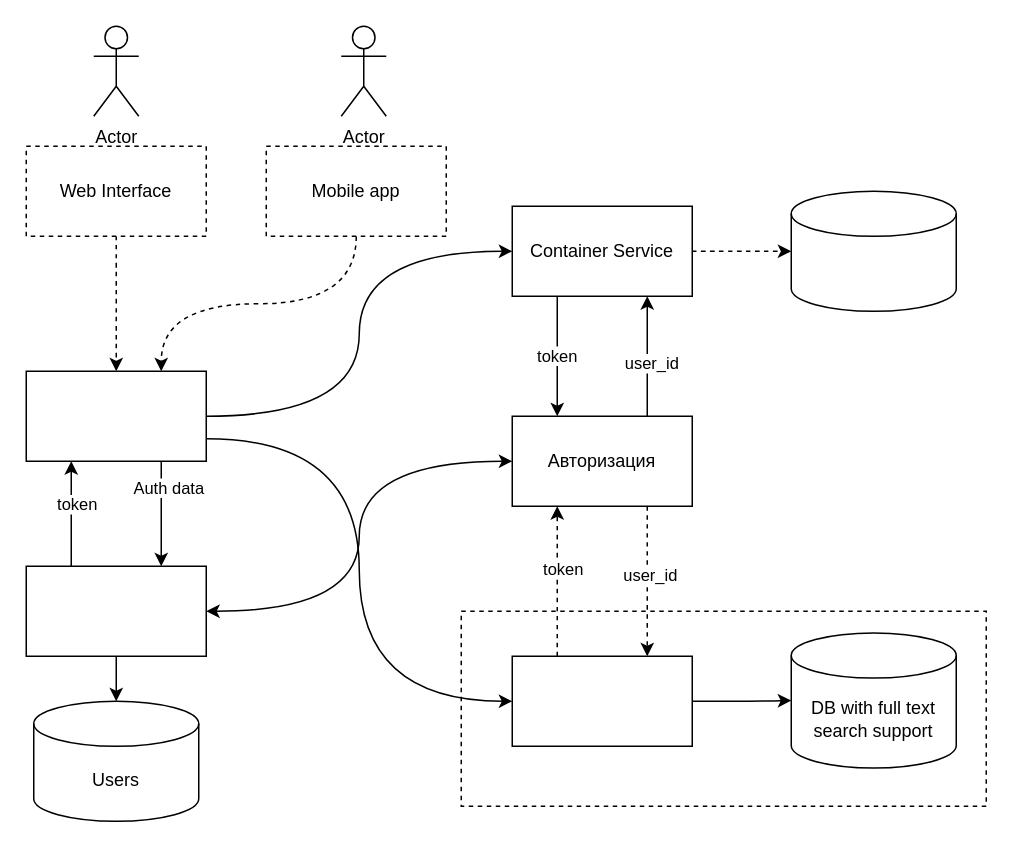
Some shapes in this 1013 by 848 pixel diagram are drawn without their labels. Here are the shapes that lost their labels. From the top down, the centre of each, then its label:
the point at 873,250: Neoj4 - container links
the point at 115,415: REST API
the point at 115,610: Аутентификация (User service)
the point at 601,700: Search Service
